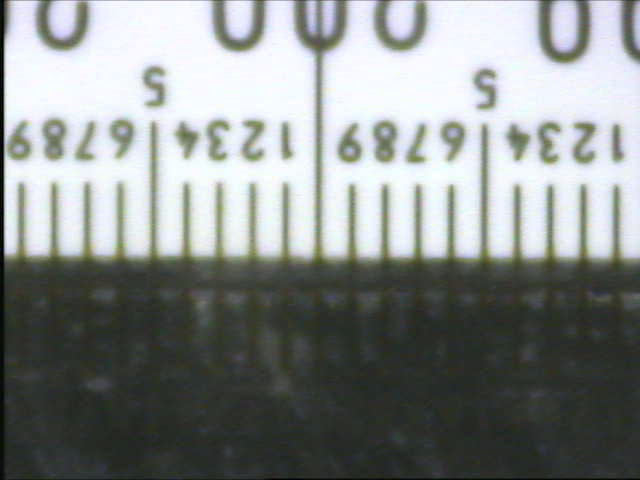line: (311, 56, 326, 270), (478, 122, 491, 269), (147, 119, 160, 261), (410, 184, 426, 267), (609, 181, 624, 266), (279, 181, 293, 270), (180, 182, 194, 266), (346, 181, 359, 270), (15, 180, 28, 266), (577, 181, 590, 265), (544, 182, 557, 266), (248, 181, 260, 270), (48, 179, 60, 267), (114, 178, 126, 261), (512, 182, 524, 264), (379, 183, 390, 271), (214, 181, 225, 265), (82, 182, 93, 265), (446, 182, 456, 270)
